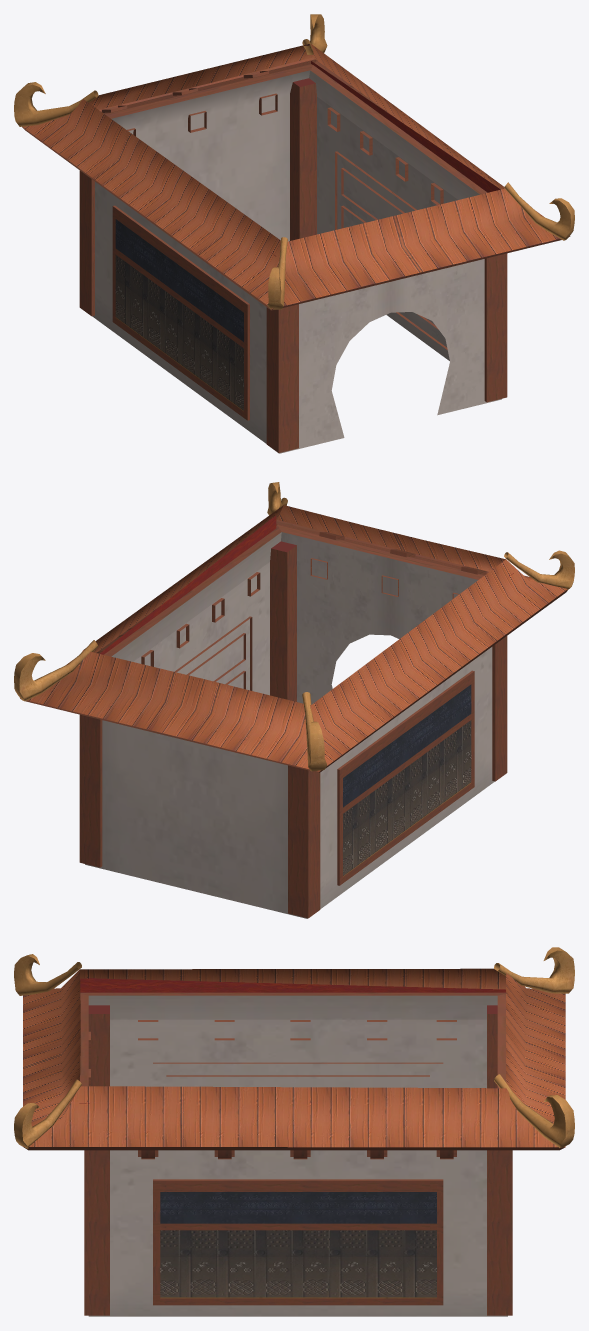
The model's file is floor01.glb.
3 views of the same model, one above another, from view 1: azimuth 30°, elevation 25°; view 2: azimuth 150°, elevation 25°; view 3: azimuth 270°, elevation 25° (orthographic). The views are drawn at different scales.
Visible parts, largest first — view 1: Floor01; view 2: Floor01; view 3: Floor01.
Boxes of the visible parts, x1,y1,x2,y2 form: Floor01: (14, 14, 574, 453); Floor01: (14, 482, 574, 918); Floor01: (14, 947, 574, 1316).
Bounding box in the file's own units: 15.68 × 10.71 × 22.71.
Materials: 3 (3 with a texture image).
